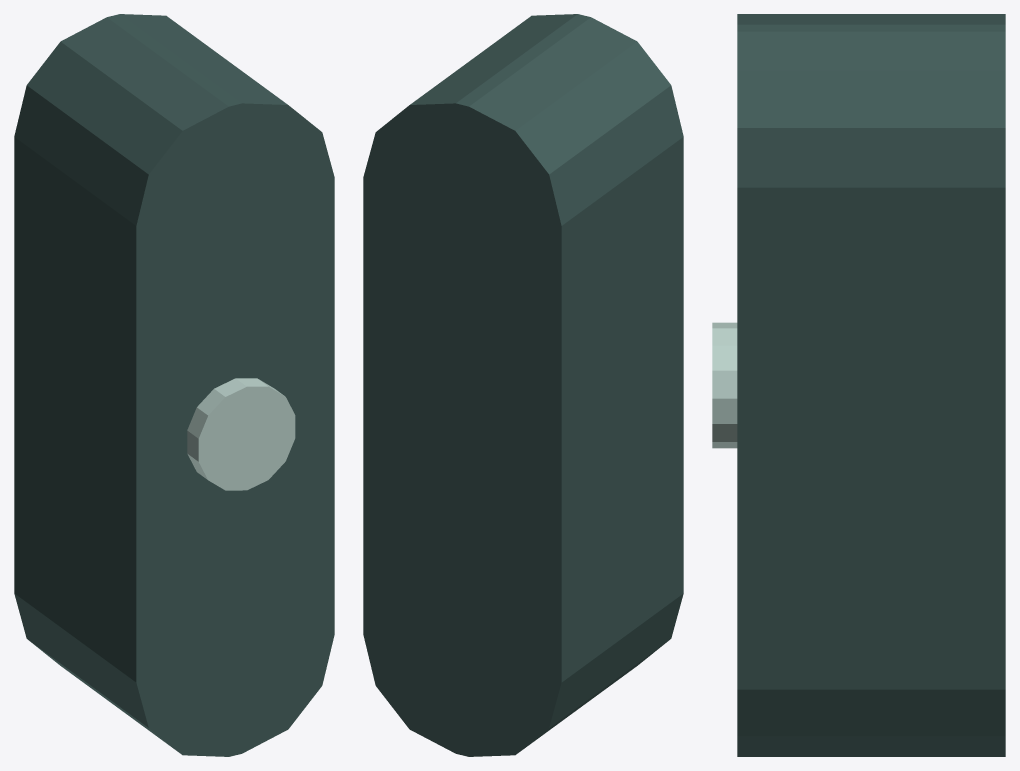
The model's file is Edge_Shutter.gltf.
The picture shows the model from 3 angles, left to right: view 1: azimuth 30°, elevation 25°; view 2: azimuth 150°, elevation 25°; view 3: azimuth 270°, elevation 25°; orthographic projection. The views are drawn at different scales.
Parts seen in each view (by area): view 1: Edge_Shutter_baked; view 2: Edge_Shutter_baked; view 3: Edge_Shutter_baked.
Boxes of the visible parts, x1,y1,x2,y2 form: Edge_Shutter_baked: (14,14,334,756); Edge_Shutter_baked: (363,14,683,756); Edge_Shutter_baked: (712,14,1005,756).
Bounding box in the file's own units: 0.3 × 0.94 × 0.35.
